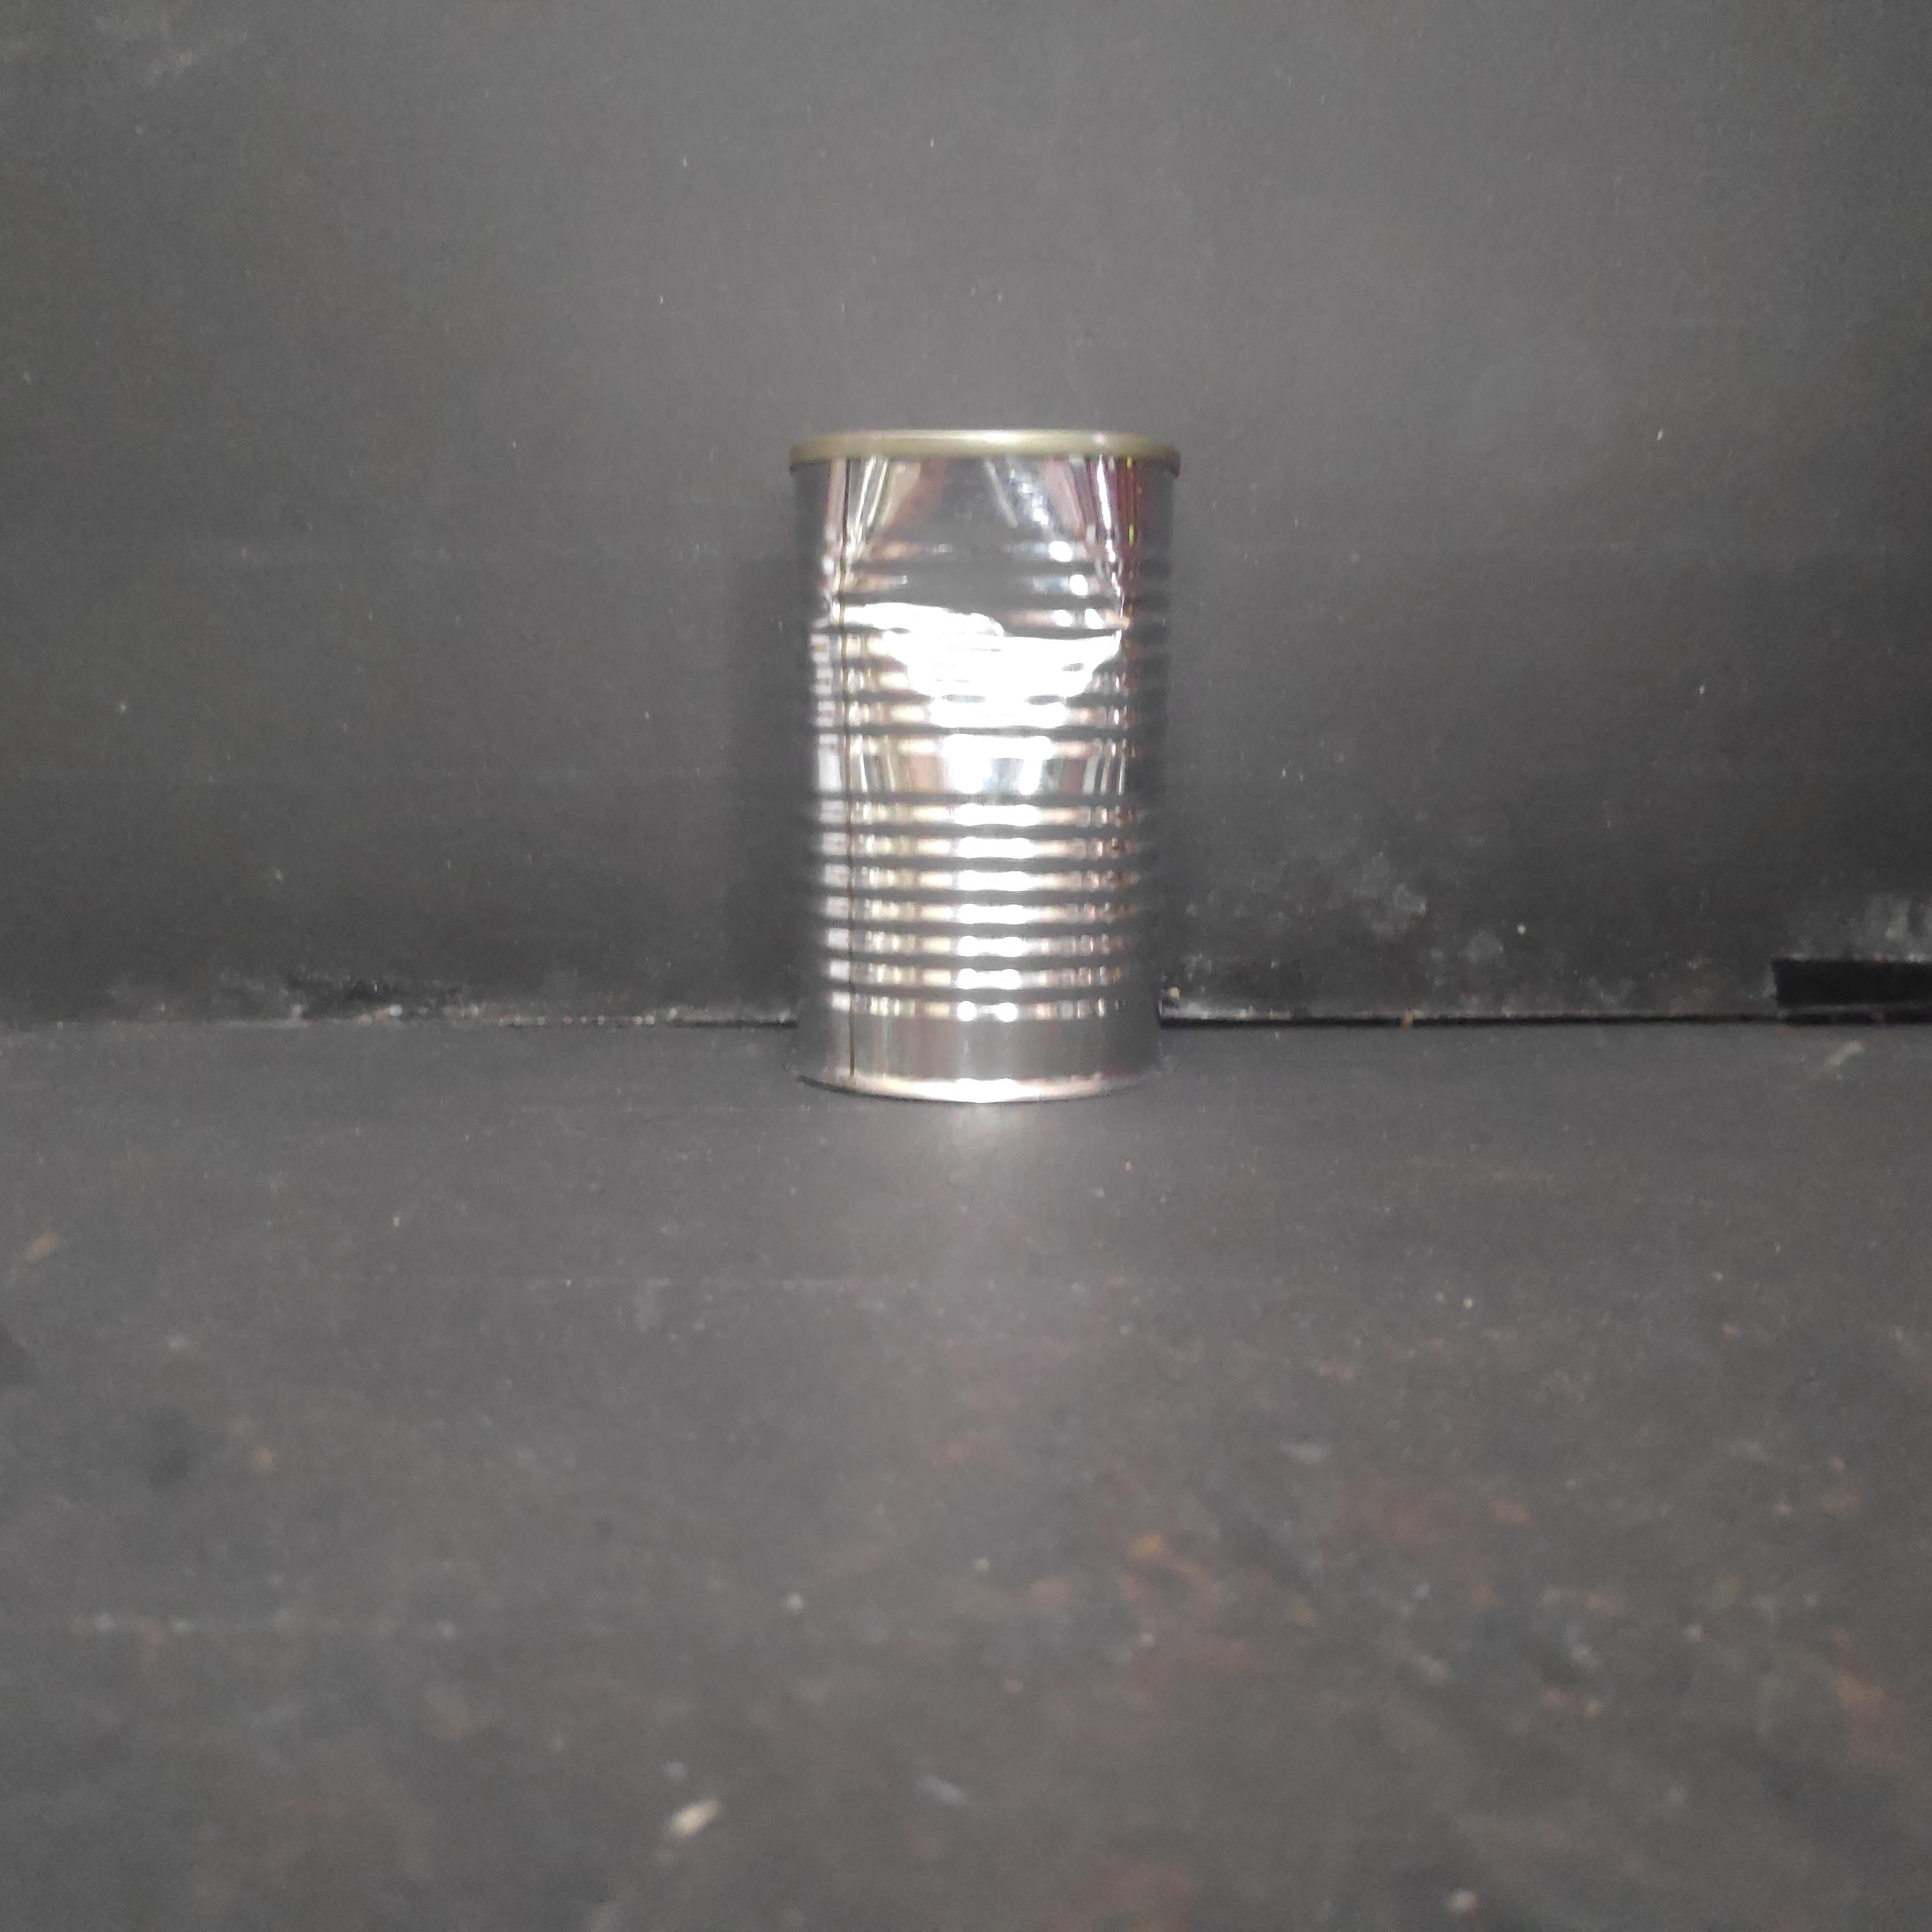Minor Defect: (771, 419, 1191, 1118)
